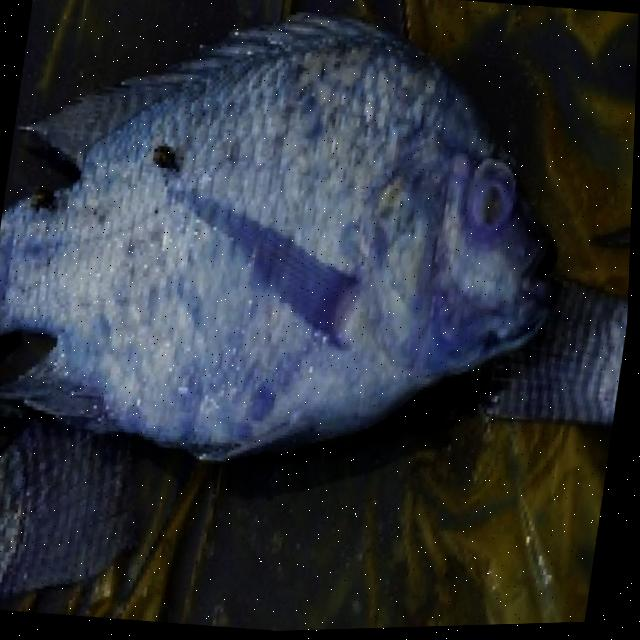Non-Fresh: (0, 0, 600, 488)
